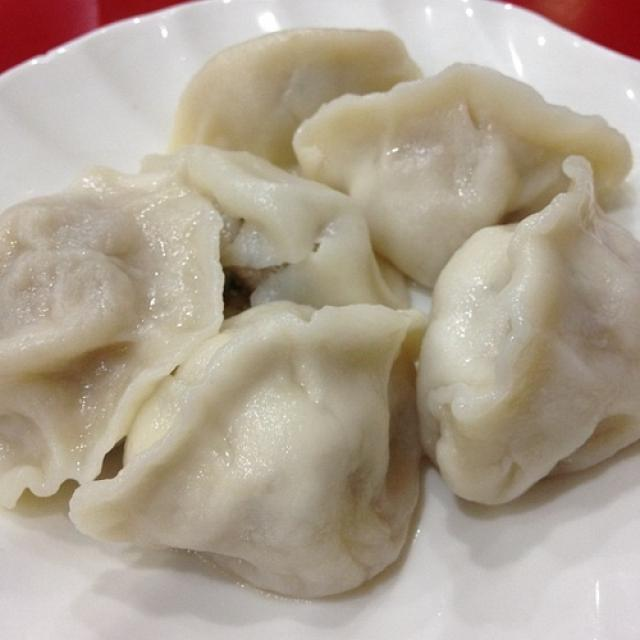带馅早点: (15, 23, 626, 616)
